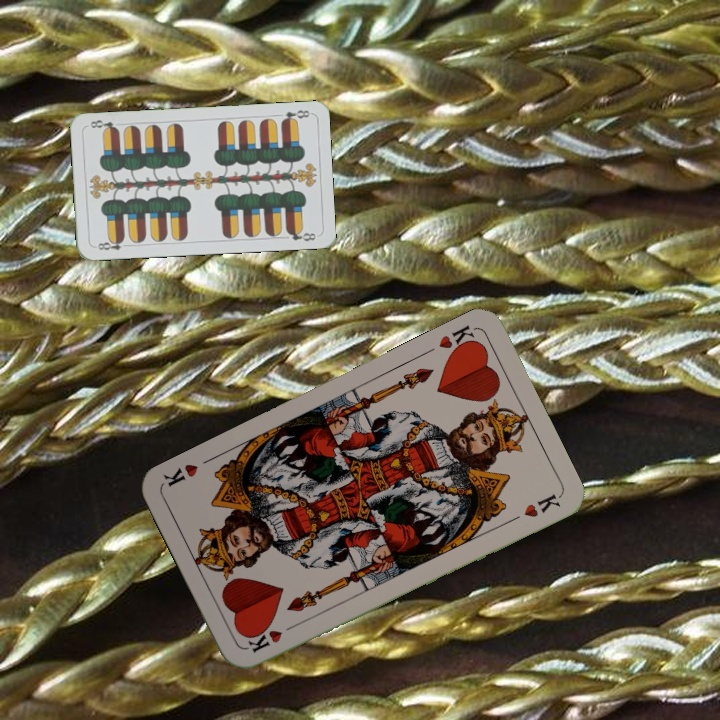E8: (91, 235, 131, 253), (277, 106, 312, 125)
HK: (243, 619, 300, 655), (434, 321, 480, 359)
